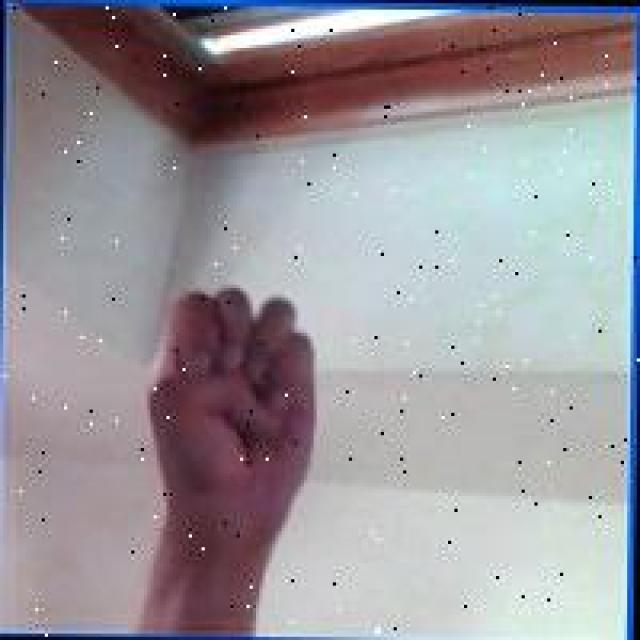E: (142, 274, 325, 536)
